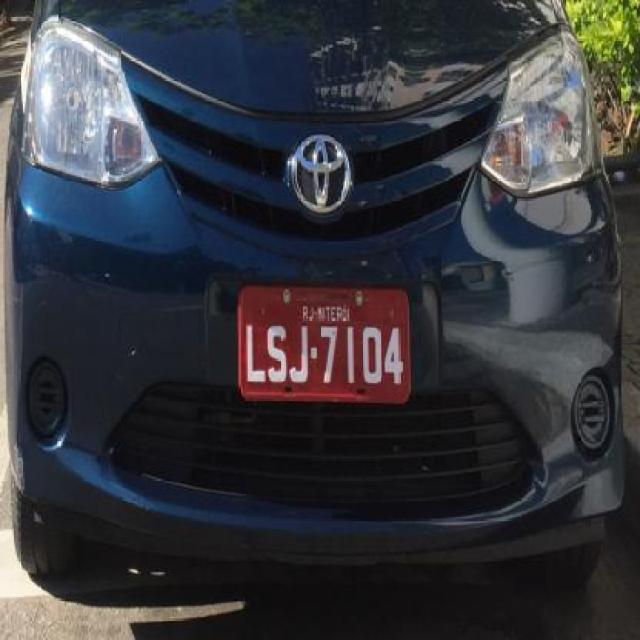old_plate: (232, 282, 418, 410)
